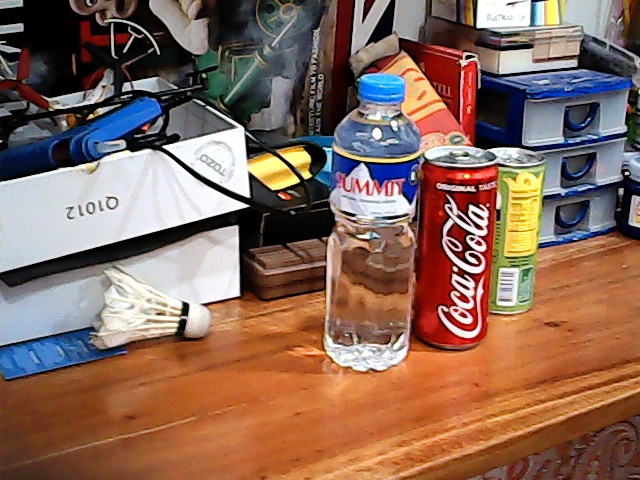Cola: (414, 144, 500, 355)
Pine Juice: (494, 150, 552, 323)
Summit Water: (315, 63, 423, 385)
